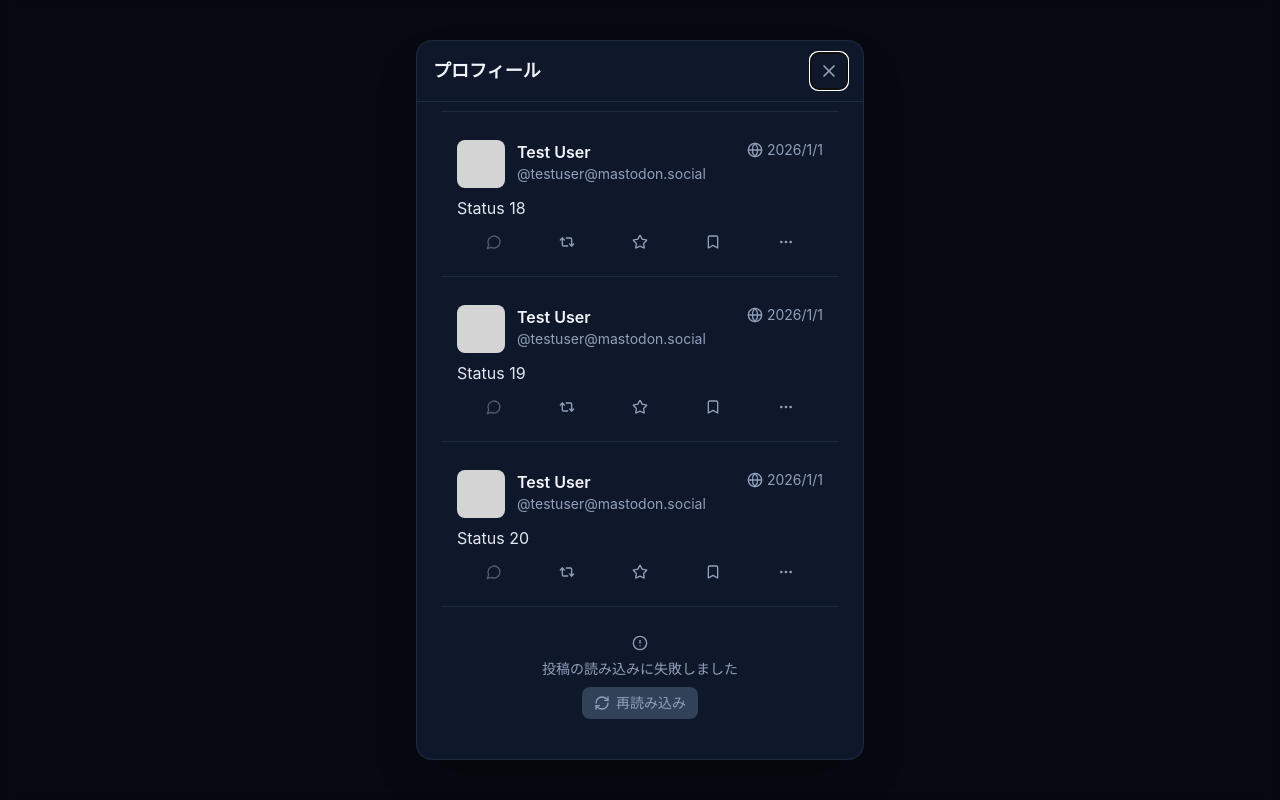
Test: ProfileModal › Infinite scroll › stops auto-loading on pagination error and recovers with manual retry
This screenshot has width=1280, height=800.
(page scrolled)
Expected: the text "投稿の読み込みに失敗しました" is shown, [542, 659, 738, 679]
Note: Click retry button
Click the button "再読み込み": (640, 703) [582, 687, 698, 719]
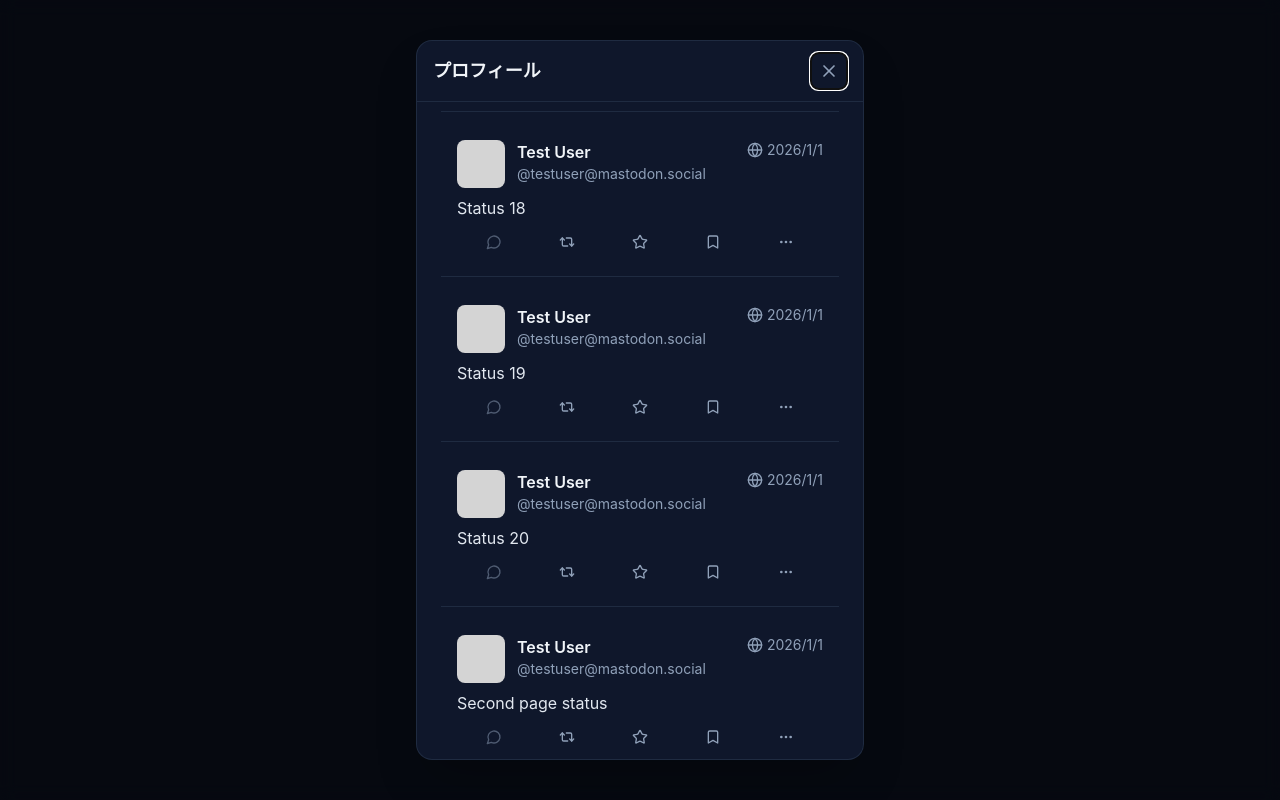
Now the text "Second page status" is shown, box [457, 693, 608, 713]
